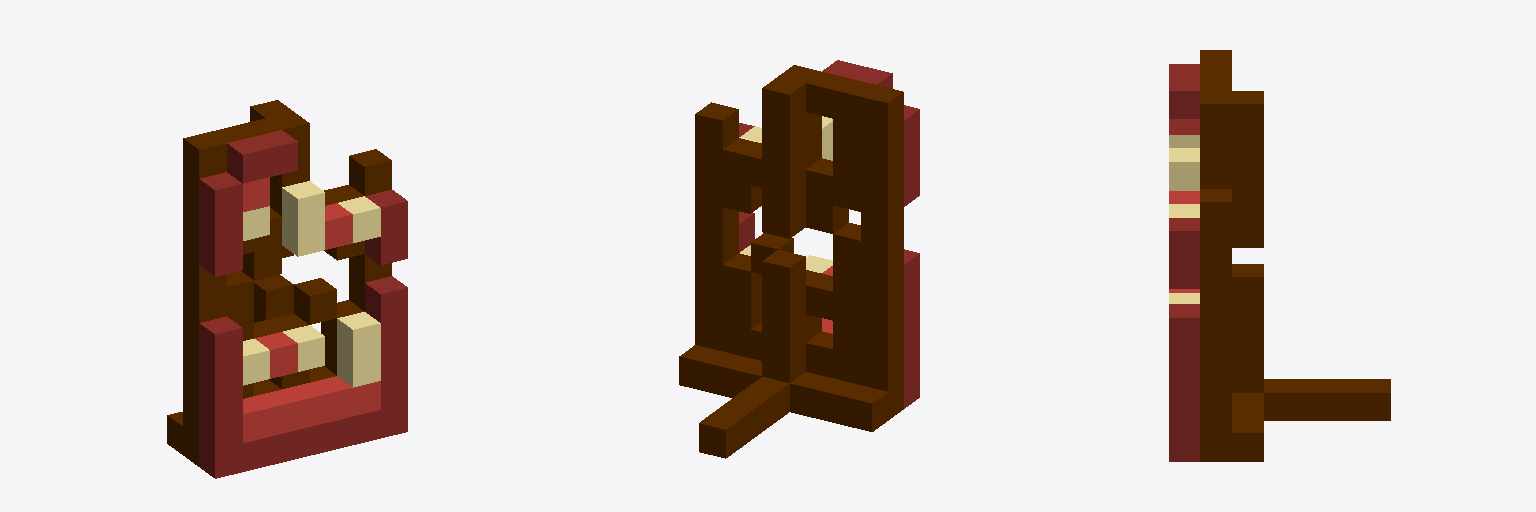
3 views of the same model, side by side, from view 1: azimuth 30°, elevation 25°; view 2: azimuth 150°, elevation 25°; view 3: azimuth 270°, elevation 25° (orthographic).
Visible parts, largest first — view 1: object 1; view 2: object 1; view 3: object 1.
Boxes of the visible parts, x1,y1,x2,y2 form: object 1: [167, 100, 407, 478]; object 1: [679, 60, 919, 458]; object 1: [1169, 50, 1390, 461].
Size of the model in its own units: 0.7 by 1.1 by 0.7.
1 materials, 1 textured.